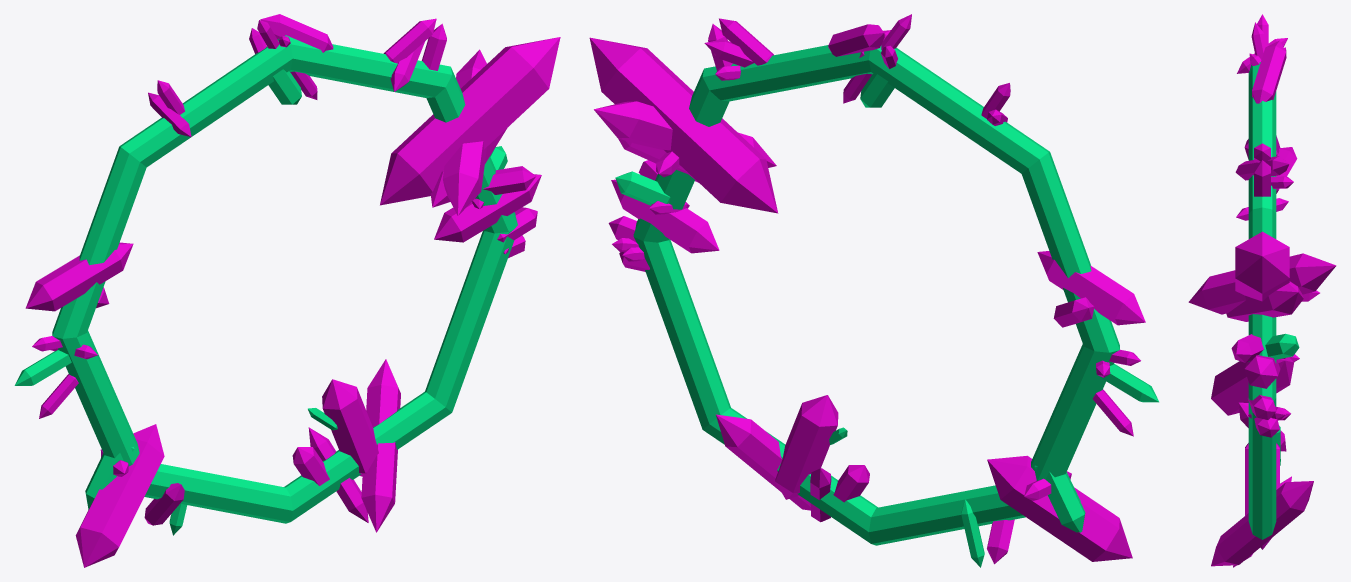
Rendered from GBE_bossRingAttack_SM.fbx.
3 renders of one model, left to right at view 1: azimuth 30°, elevation 25°; view 2: azimuth 150°, elevation 25°; view 3: azimuth 270°, elevation 25°, orthographic. The views are drawn at different scales.
Visible parts, largest first — view 1: bigCrystals, ringSmallCrystals; view 2: bigCrystals, ringSmallCrystals; view 3: bigCrystals, ringSmallCrystals.
Part boxes in pixels (x1,y1,x2,y2): bigCrystals: [25, 14, 560, 567]; ringSmallCrystals: [14, 35, 536, 535]; bigCrystals: [589, 14, 1145, 564]; ringSmallCrystals: [615, 30, 1158, 567]; bigCrystals: [1188, 14, 1336, 567]; ringSmallCrystals: [1231, 53, 1299, 539].
Size of the model in its own units: 11.65 by 10.59 by 2.85.
